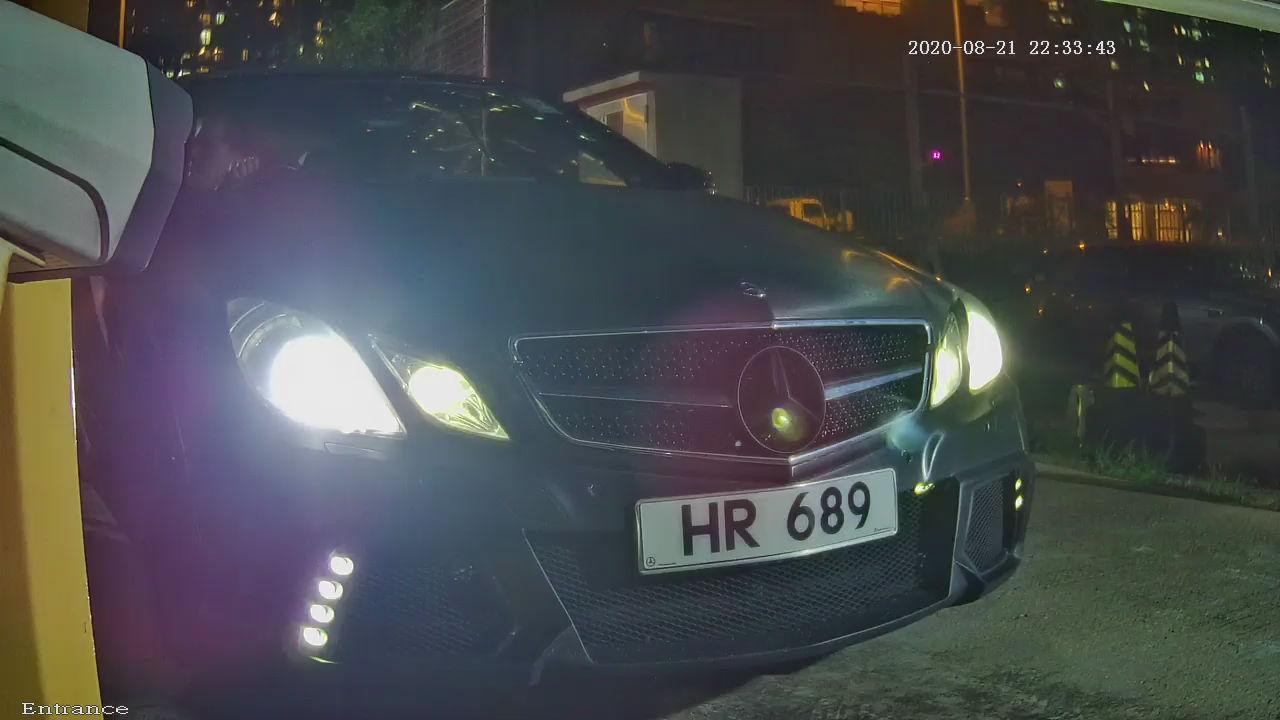Car: (29, 7, 1149, 717)
License Plate: (597, 415, 943, 603)
